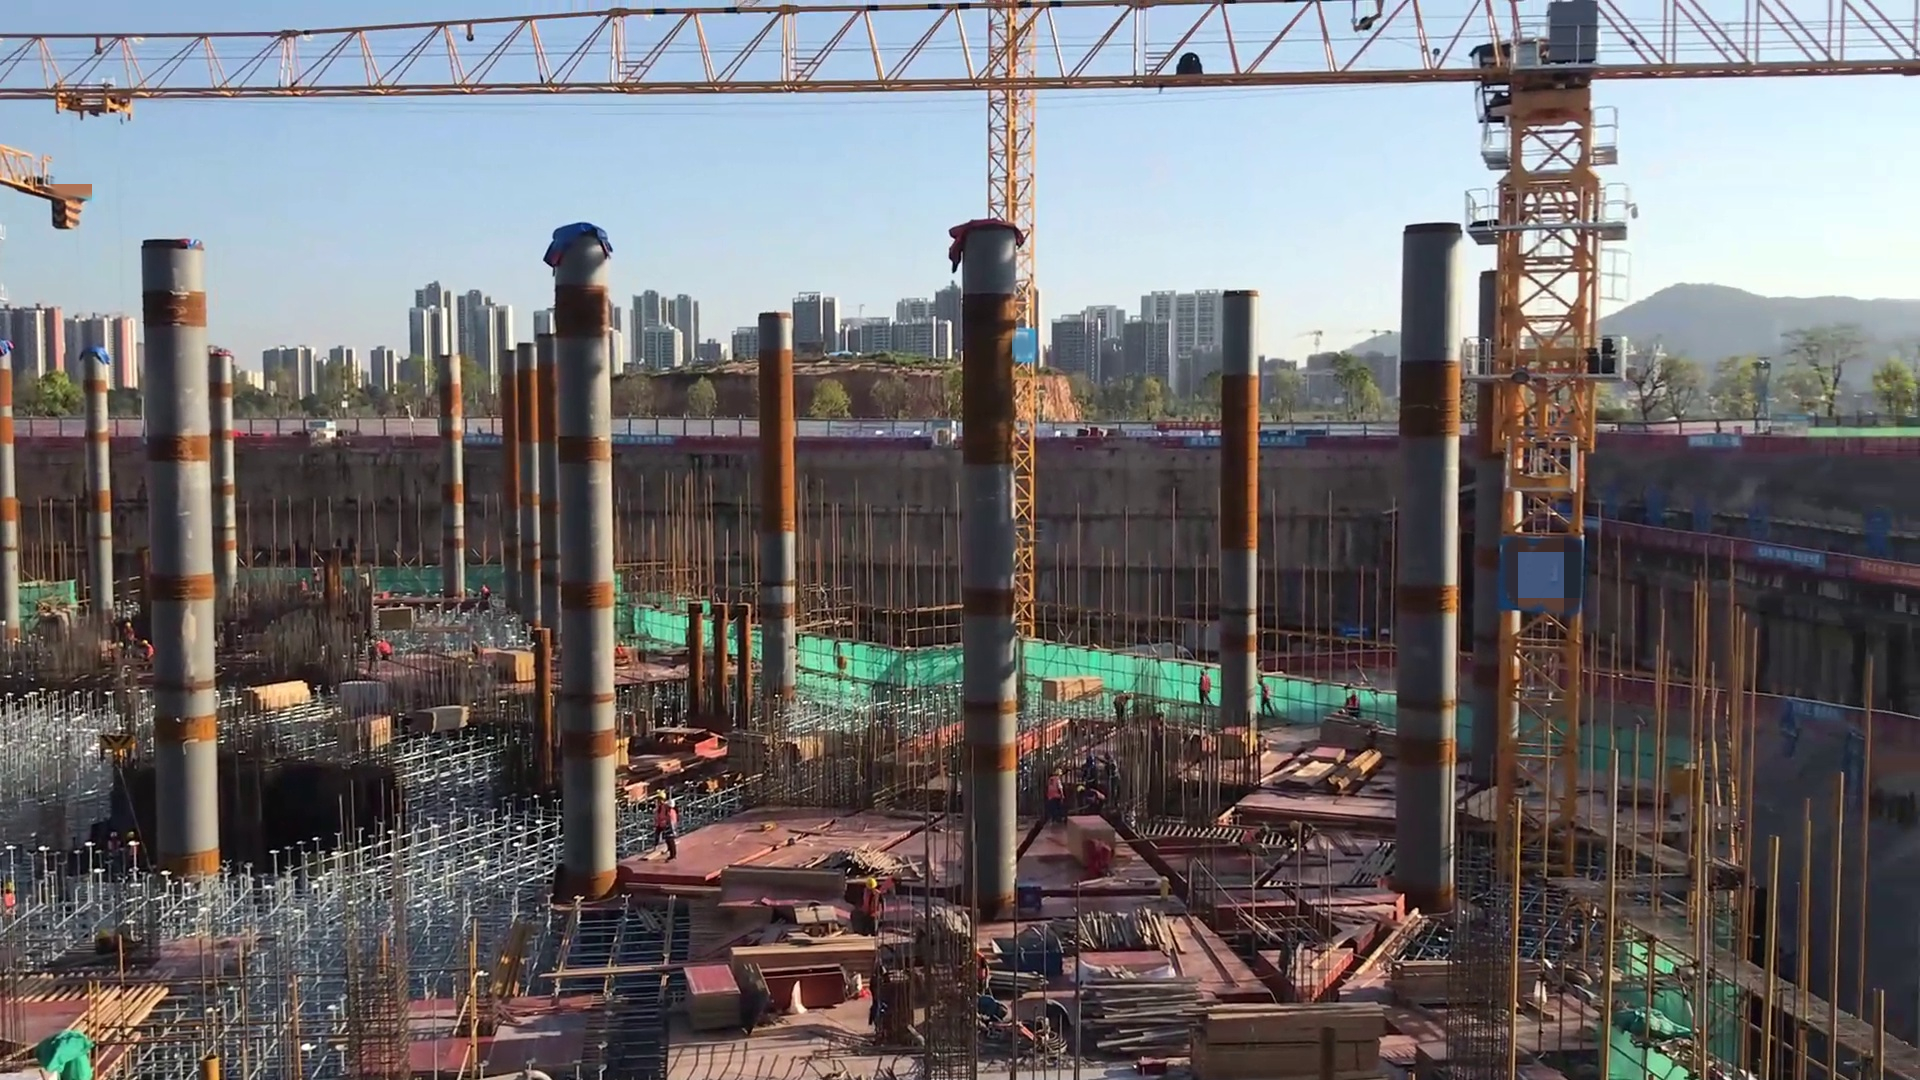board: (679, 962, 753, 1043), (495, 649, 537, 686)
helmet: (866, 874, 879, 890), (1104, 749, 1115, 763), (889, 873, 903, 884), (665, 799, 678, 810), (1349, 688, 1358, 701), (656, 791, 667, 801), (123, 621, 133, 630), (1052, 769, 1063, 778), (140, 637, 149, 646), (1125, 693, 1133, 701)
hook: (990, 936, 1064, 975)
person: (1079, 834, 1116, 884), (1103, 751, 1128, 811), (863, 872, 884, 942), (878, 869, 908, 914), (1046, 766, 1067, 824), (665, 798, 683, 863), (652, 790, 669, 853), (1078, 755, 1101, 800), (1111, 687, 1138, 726), (1, 877, 23, 924), (1341, 688, 1363, 725), (121, 618, 138, 663), (140, 632, 155, 677), (1198, 670, 1214, 708), (1260, 679, 1277, 719), (612, 635, 630, 664), (377, 636, 391, 666), (477, 582, 493, 604)
slogan: (1853, 560, 1920, 590), (1756, 542, 1823, 570), (605, 430, 681, 454), (1188, 432, 1299, 448), (459, 434, 511, 456), (1685, 431, 1741, 450), (1162, 418, 1224, 429)
vest: (863, 890, 883, 919), (1047, 776, 1064, 804), (1080, 761, 1100, 786), (666, 810, 680, 840), (653, 804, 669, 832), (1344, 697, 1362, 718), (4, 890, 18, 911)
wood: (1192, 1003, 1396, 1077), (1090, 971, 1203, 1063), (1389, 950, 1555, 1004), (727, 939, 894, 992), (239, 672, 316, 720), (402, 701, 478, 745), (1042, 671, 1098, 707)
